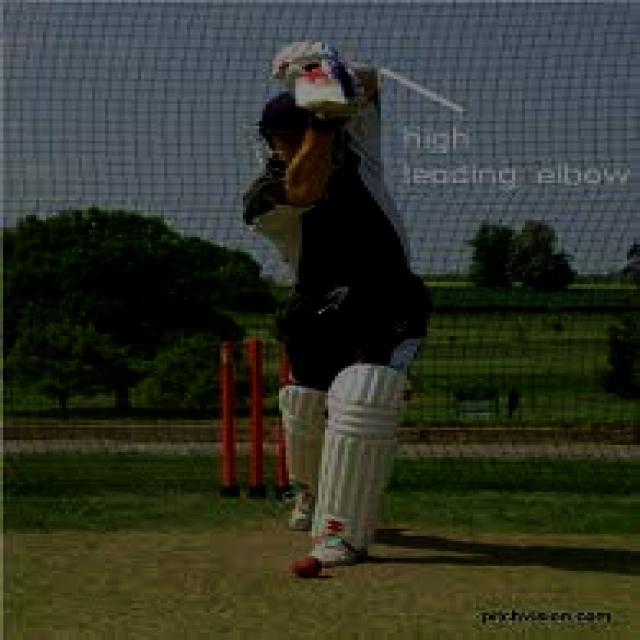bat: (294, 65, 351, 118)
toe: (296, 100, 346, 110)
